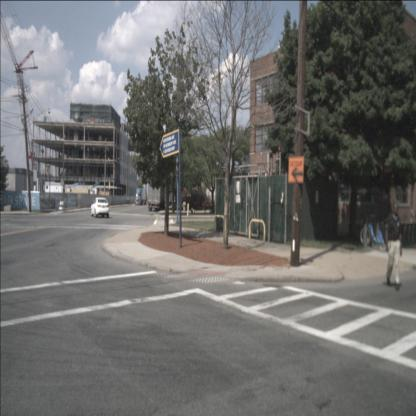human-pedestrian-adult: (383, 201, 403, 291)
vehicle-bicycle: (359, 213, 390, 252)
vehicle-car: (90, 198, 110, 218)
vehicle-truck: (148, 176, 165, 212), (135, 188, 143, 205)
